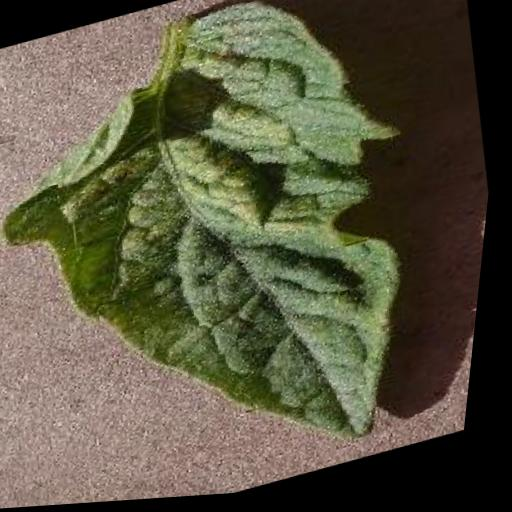Spider Mites: (0, 0, 475, 512)
